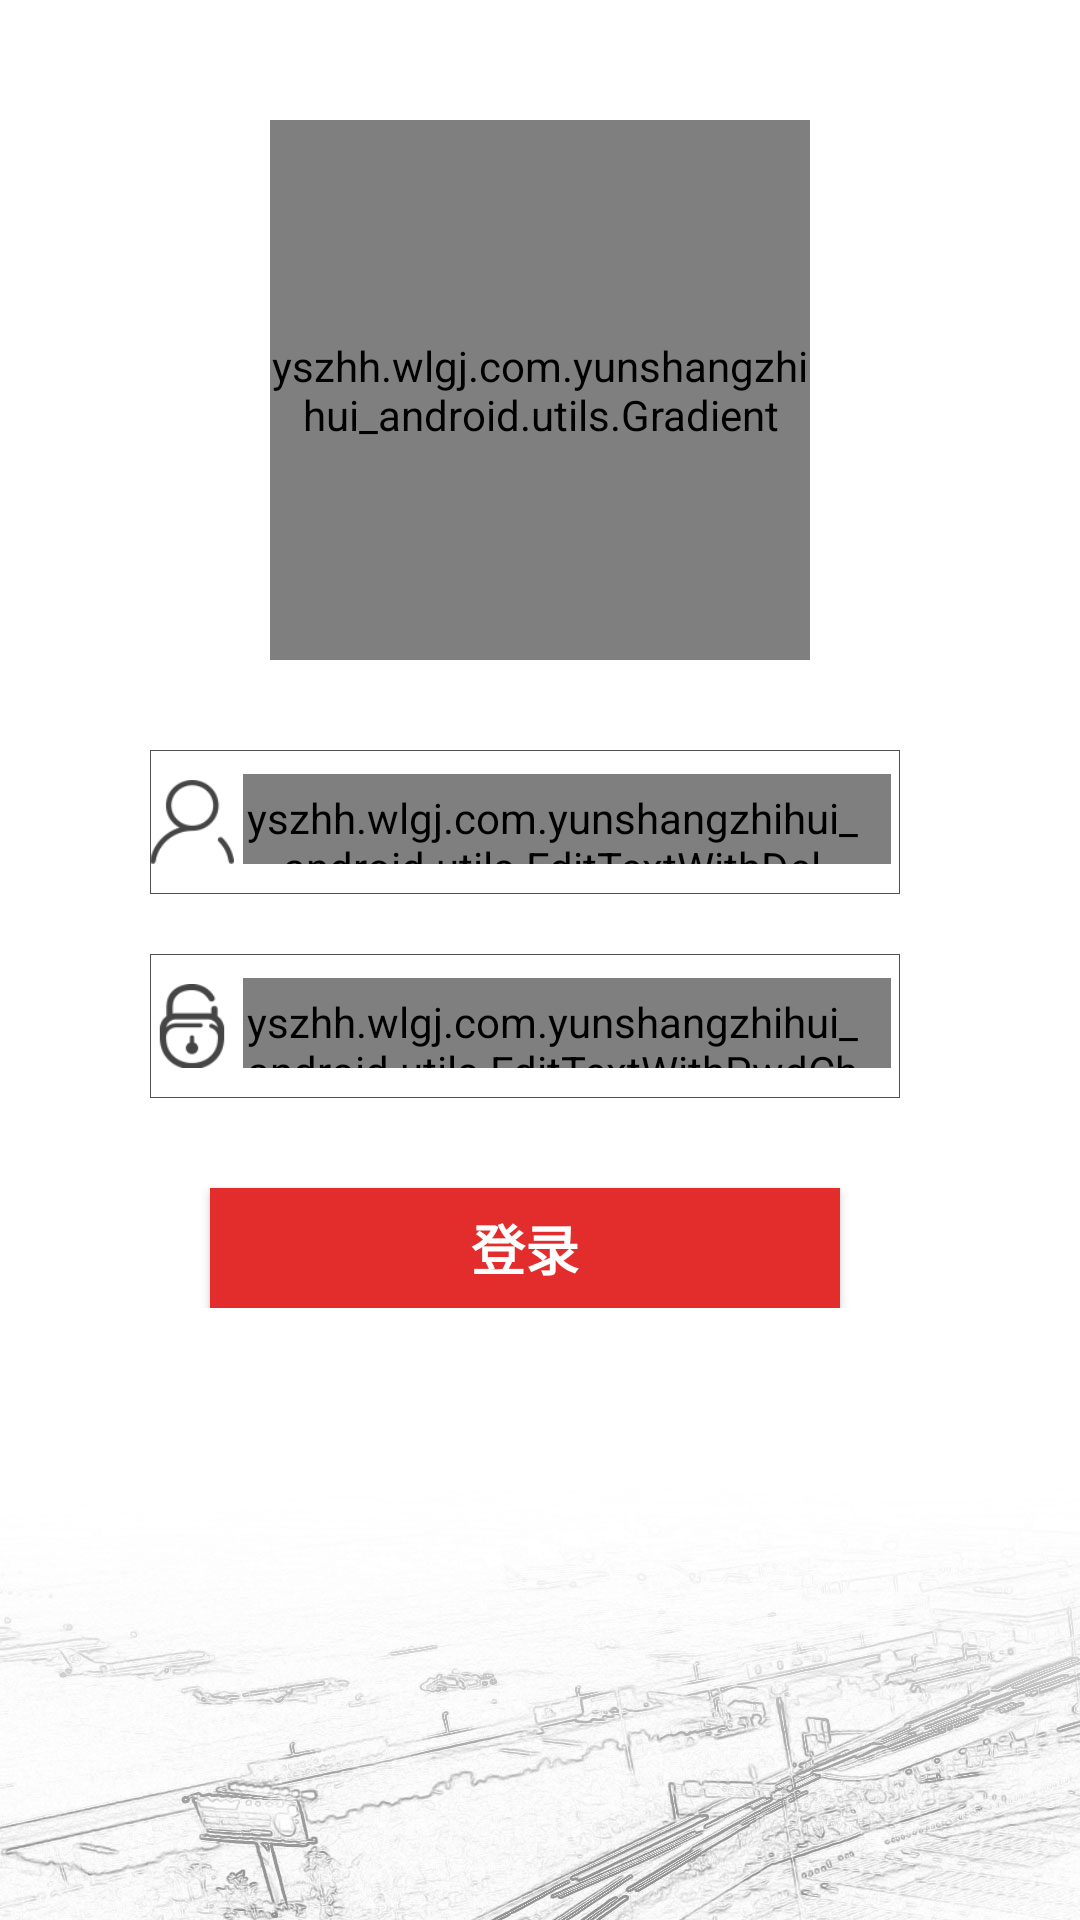

Icons on this 1080px x 1920px Android screen, each with its box as (x1, y1, x2, y2):
password: (159, 984, 225, 1068)
